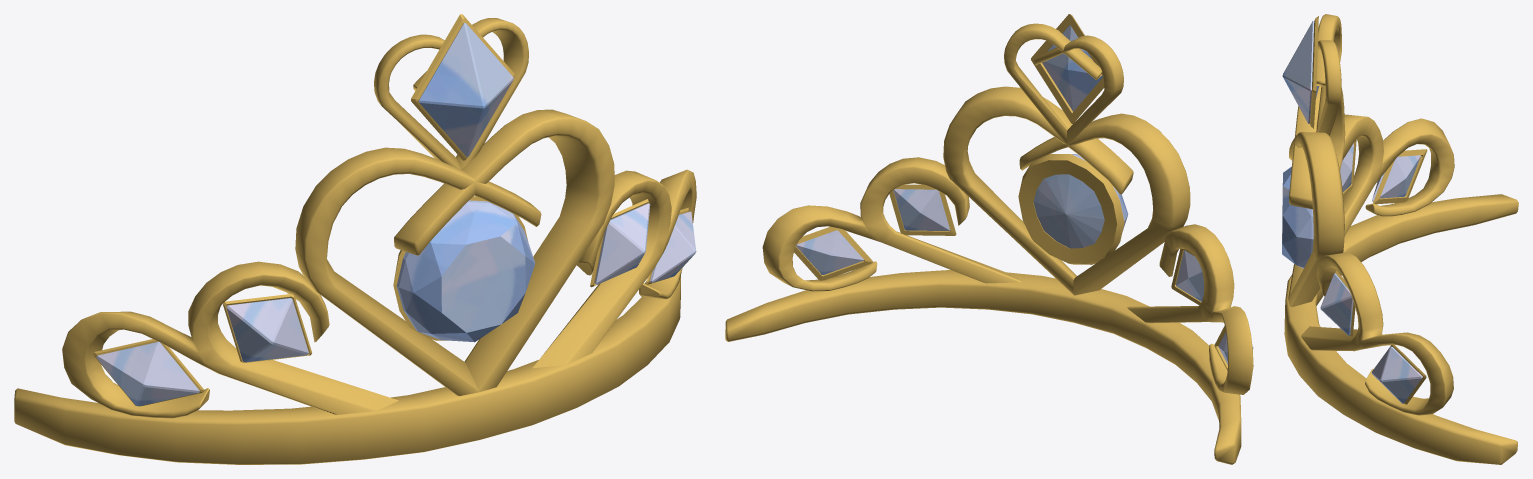
Rendered from pm0025_00_Rig.fbx.
3 renders of one model, left to right at view 1: azimuth 30°, elevation 25°; view 2: azimuth 150°, elevation 25°; view 3: azimuth 270°, elevation 25°, orthographic. The views are drawn at different scales.
Visible parts, largest first — view 1: doodad_gofest_2023_tiaragoldSkin, doodad_gofest_2023_tiarastoneSkin; view 2: doodad_gofest_2023_tiaragoldSkin, doodad_gofest_2023_tiarastoneSkin; view 3: doodad_gofest_2023_tiaragoldSkin, doodad_gofest_2023_tiarastoneSkin.
Part boxes in pixels (x1,y1,x2,y2): doodad_gofest_2023_tiaragoldSkin: (14, 14, 696, 464); doodad_gofest_2023_tiarastoneSkin: (96, 23, 696, 406); doodad_gofest_2023_tiaragoldSkin: (725, 14, 1253, 464); doodad_gofest_2023_tiarastoneSkin: (796, 17, 1253, 364); doodad_gofest_2023_tiaragoldSkin: (1284, 14, 1518, 464); doodad_gofest_2023_tiarastoneSkin: (1282, 21, 1422, 403).
Size of the model in its own units: 0.1055 by 0.0647 by 0.0422.
